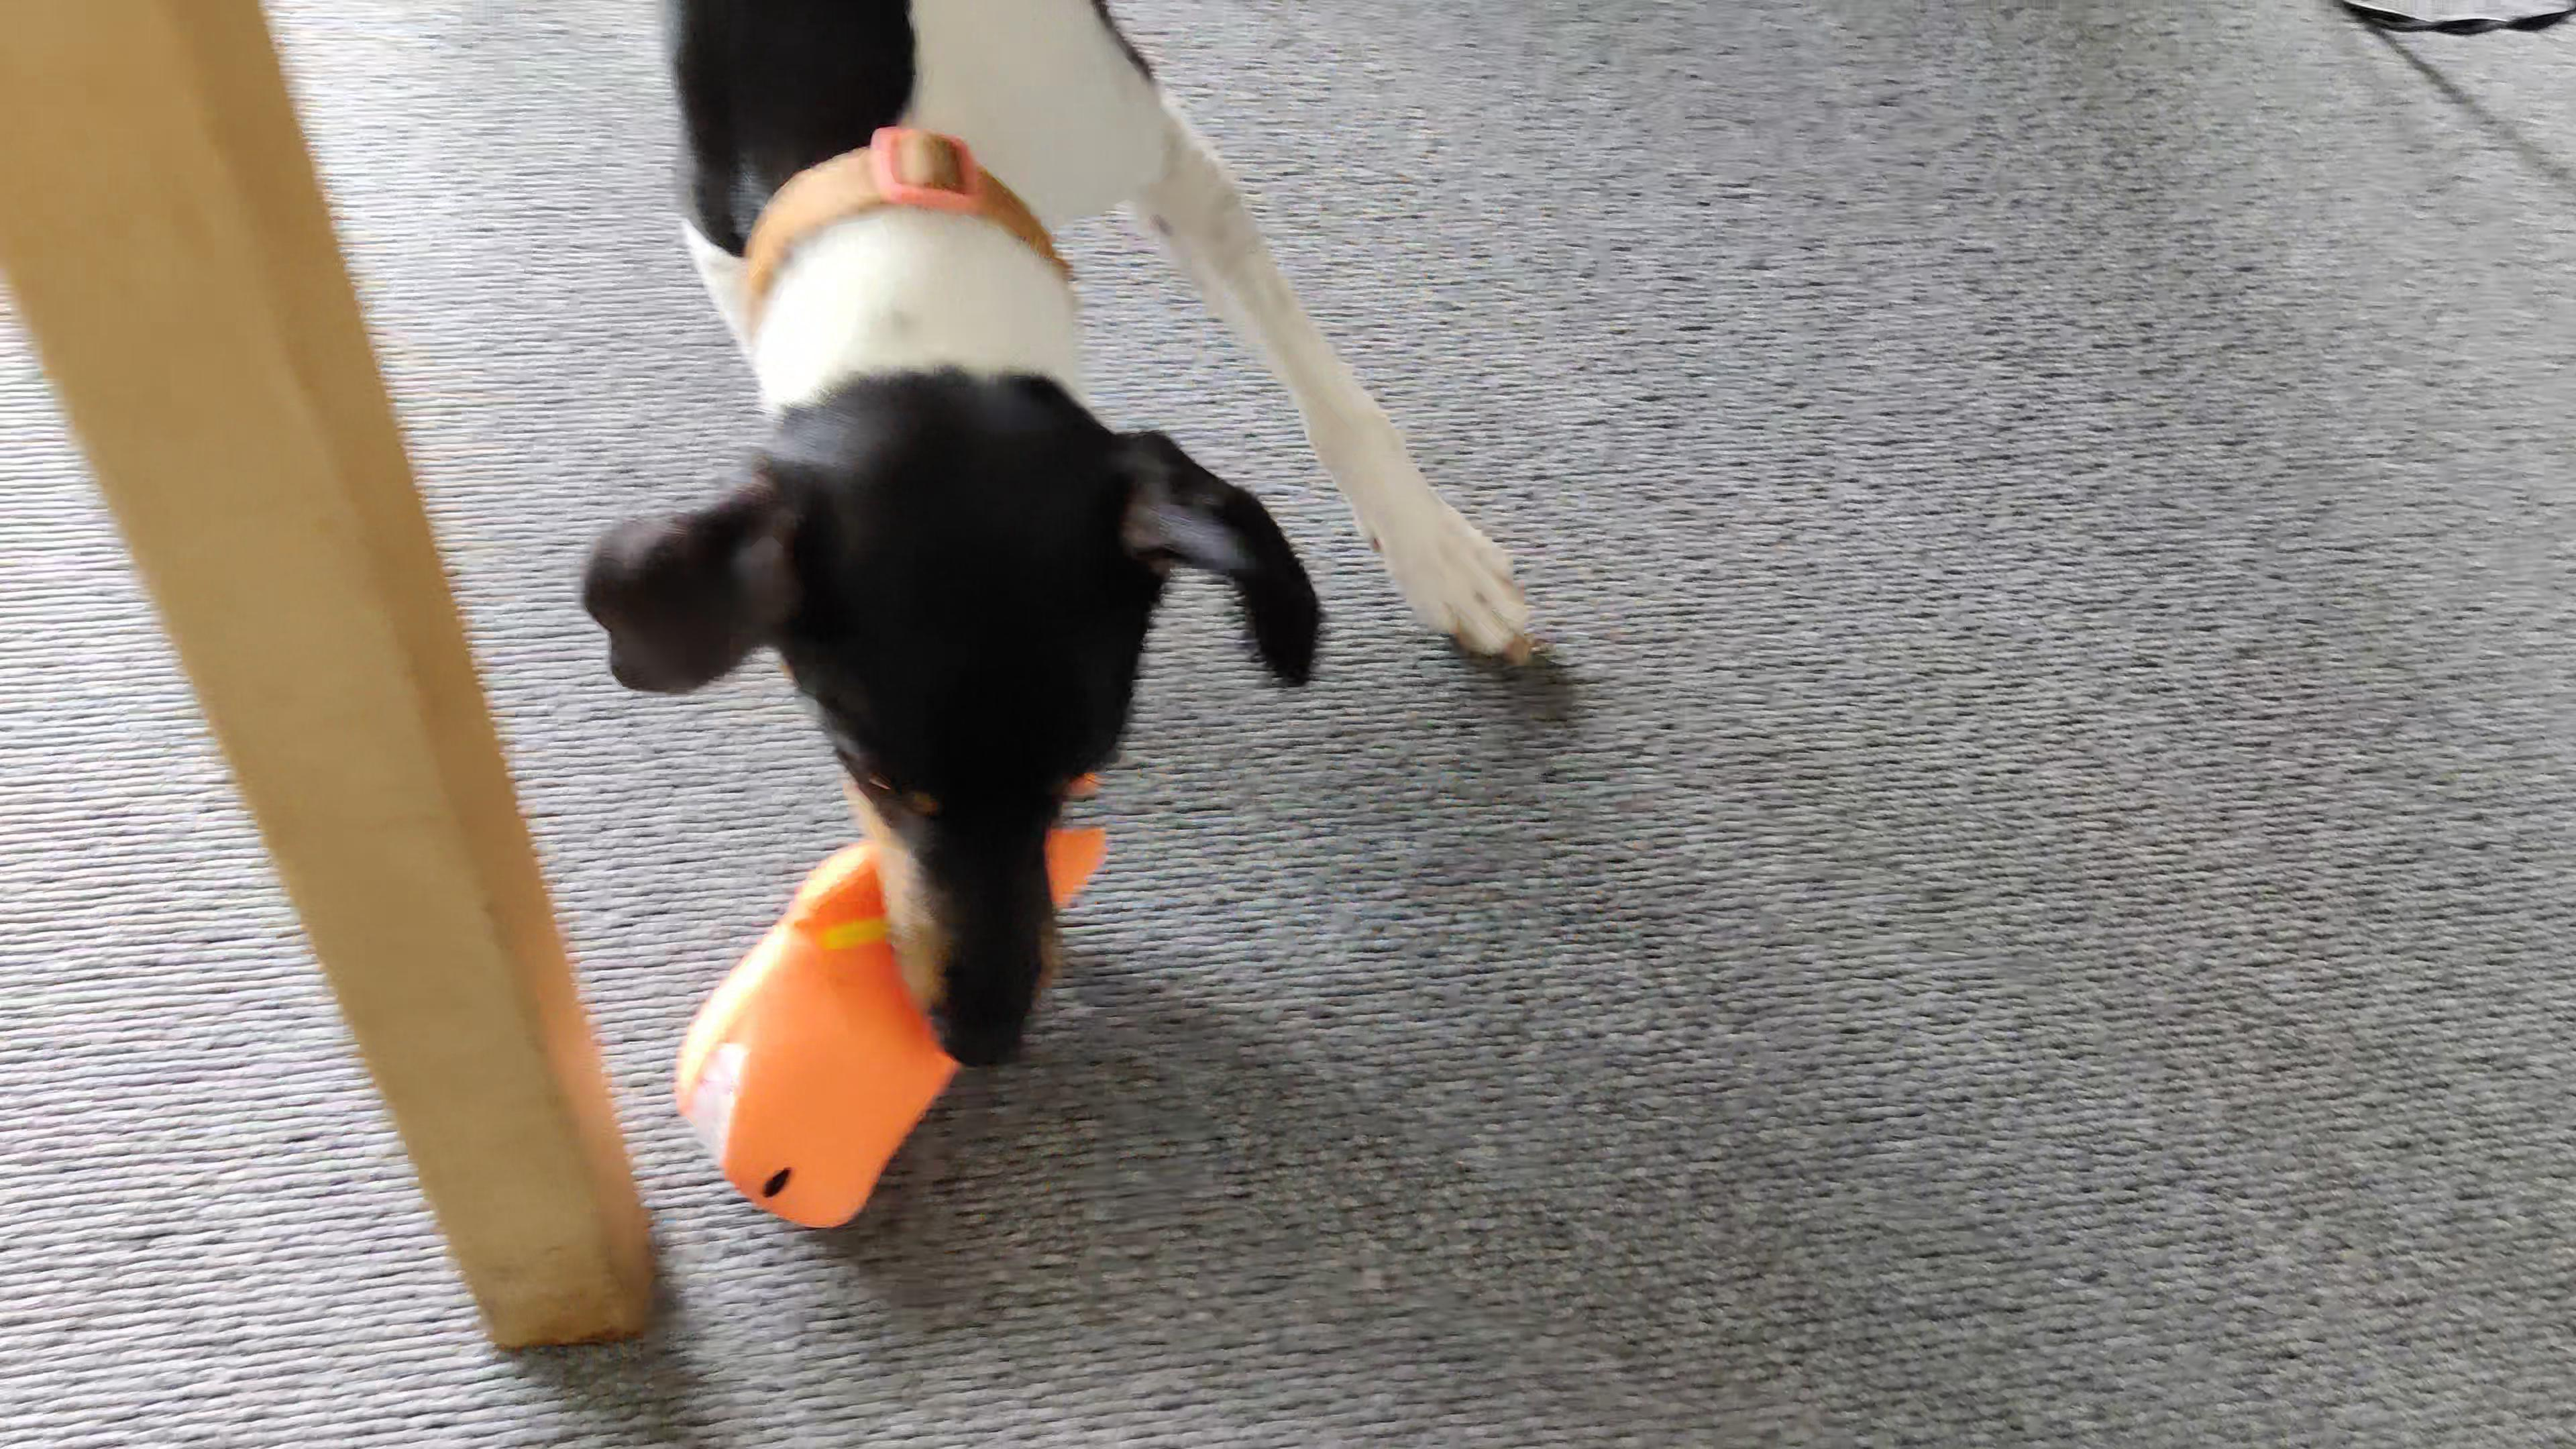Dog: (561, 0, 1553, 1083)
